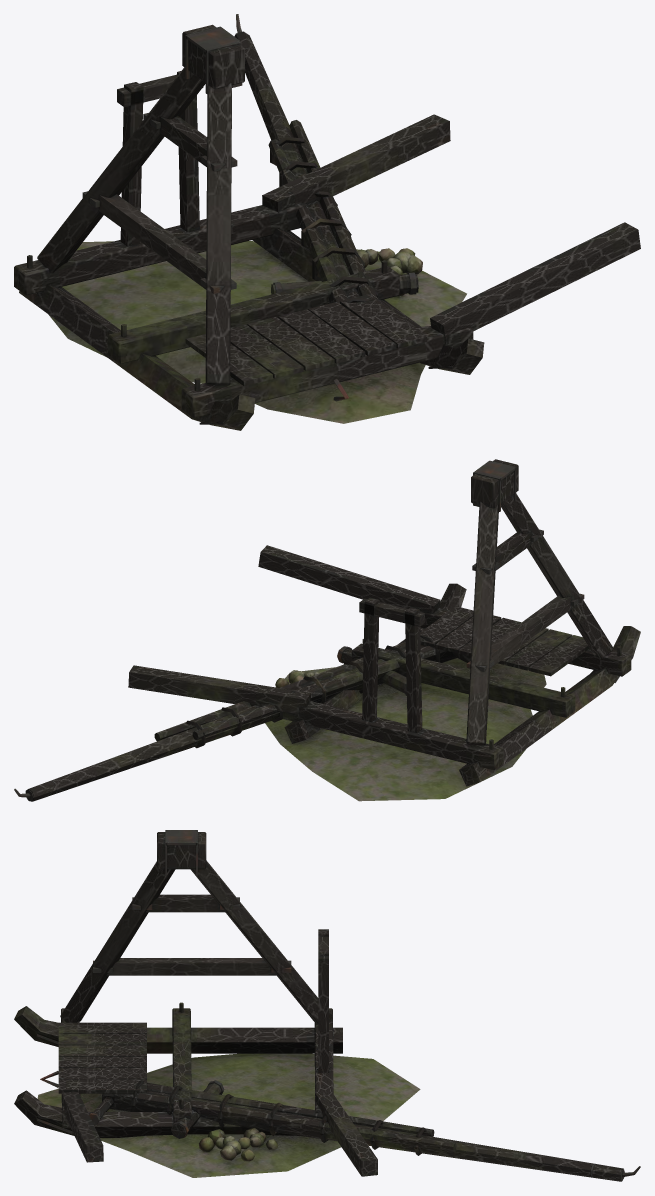
The model's file is mangonel_burnt.glb.
3 renders of one model, top to bottom at view 1: azimuth 30°, elevation 25°; view 2: azimuth 150°, elevation 25°; view 3: azimuth 270°, elevation 25°, orthographic. The views are drawn at different scales.
Visible parts, largest first — view 1: body_LOD0; view 2: body_LOD0; view 3: body_LOD0.
Boxes of the visible parts, x1,y1,x2,y2 form: body_LOD0: (14,14,640,430); body_LOD0: (14,459,640,801); body_LOD0: (14,830,640,1181).
Size of what is drawn, in the model's own units: 5.28 by 3.52 by 8.16.
1 material, 1 textured.
